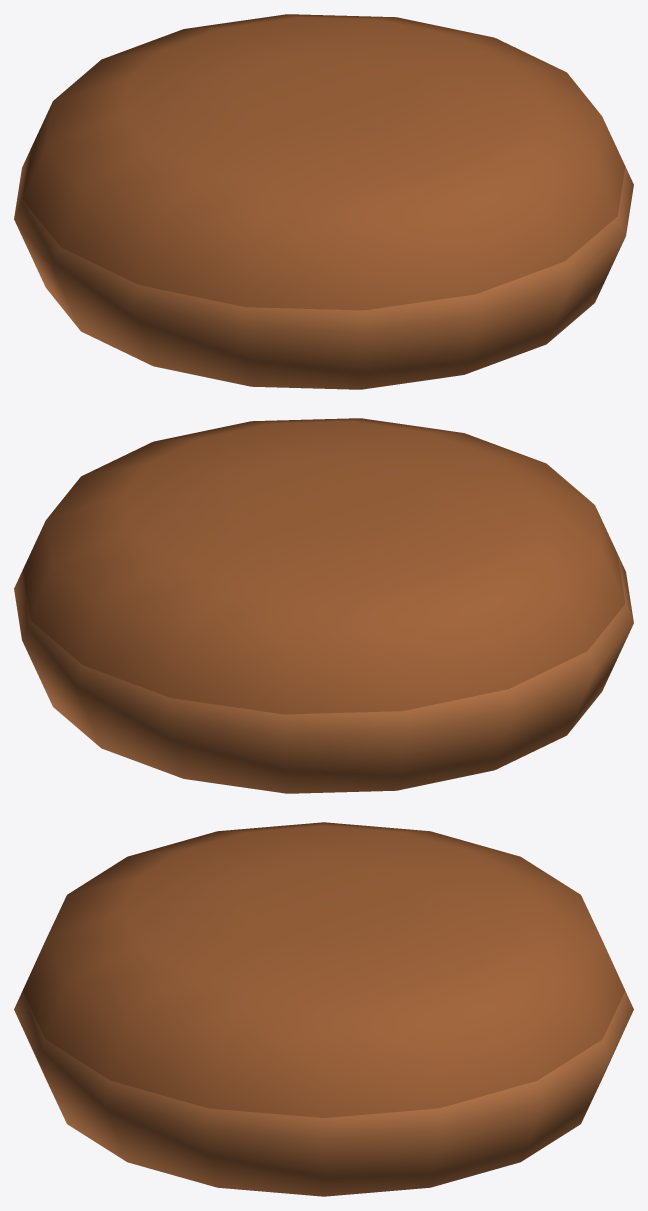
The model's file is SweetBun_01.fbx.
3 views of the same model, one above another, from view 1: azimuth 30°, elevation 25°; view 2: azimuth 150°, elevation 25°; view 3: azimuth 270°, elevation 25° (orthographic).
Visible parts, largest first — view 1: SweetBun_01; view 2: SweetBun_01; view 3: SweetBun_01.
Part boxes in pixels (x1,y1,x2,y2): SweetBun_01: (14, 14, 633, 389); SweetBun_01: (14, 418, 633, 793); SweetBun_01: (14, 822, 633, 1196).
Size of the model in its own units: 0.1078 by 0.0416 by 0.1078.
